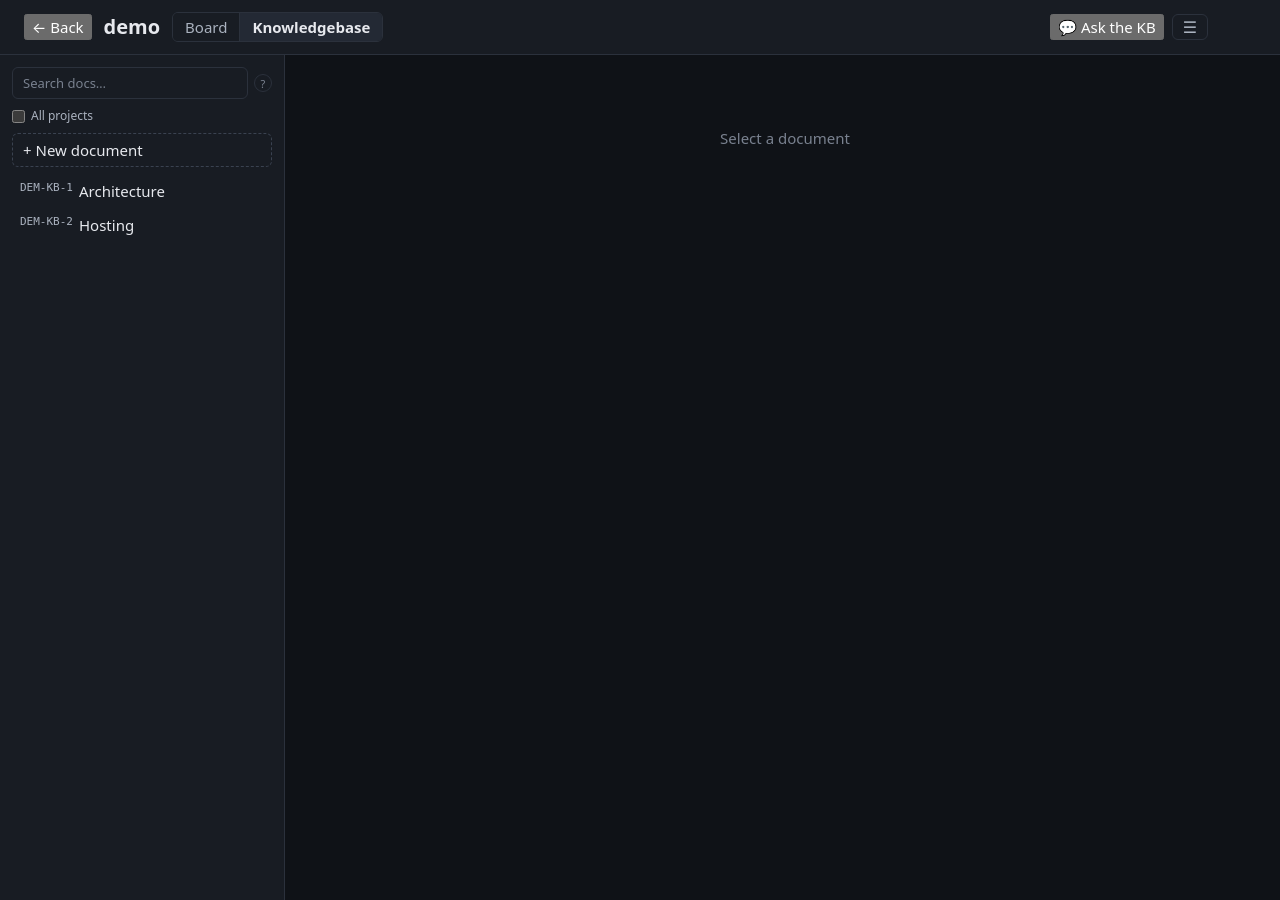
Test: KnowledgeBase › renders the selected doc as markdown (heading + table)
Click the text "Architecture": (122, 191) [79,181,165,201]
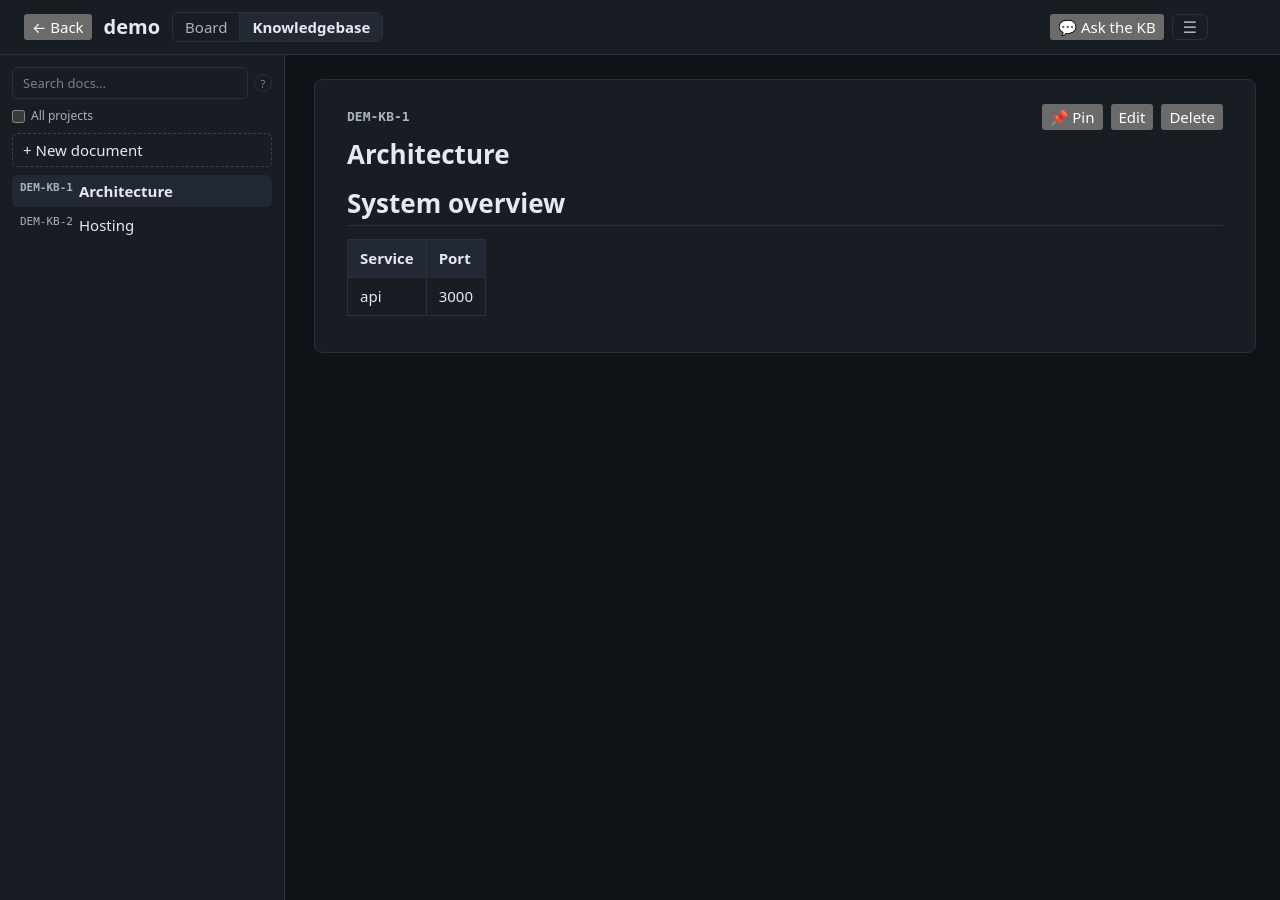
Check: the heading "System overview" is shown, box [347,186,1223,226]
Check: the table is shown, box [347,239,486,316]
Check: the text "api" is shown, box [348,277,426,315]
